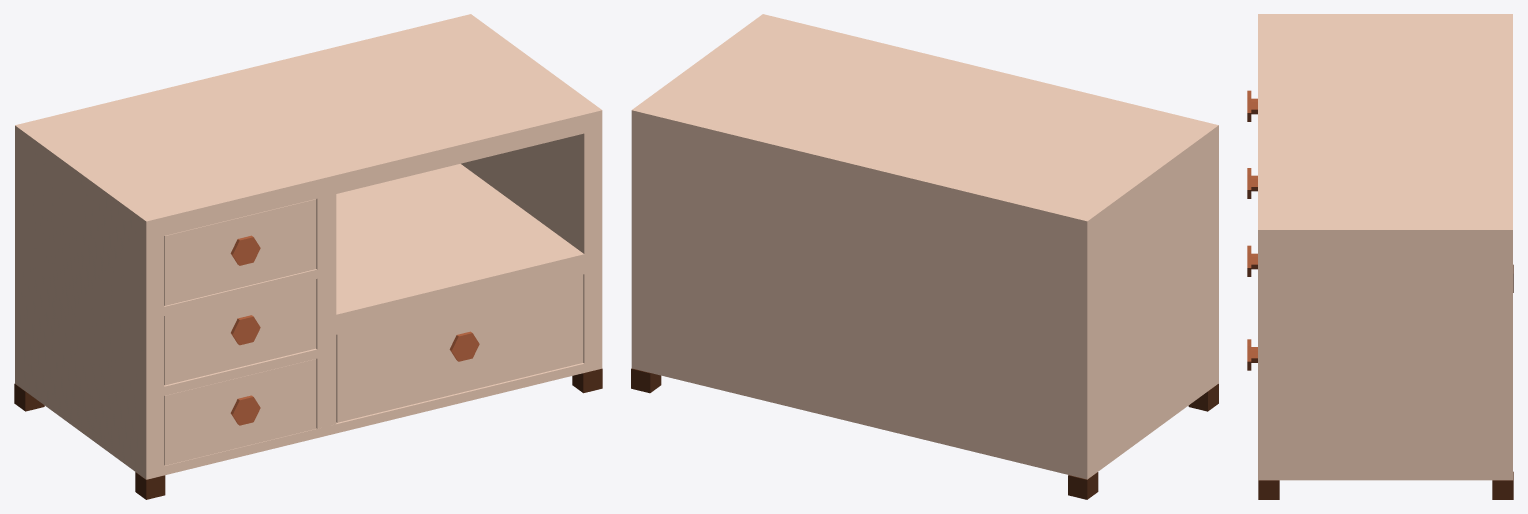
File: PW_cupboard01.fbx
3 views of the same model, side by side, from view 1: azimuth 30°, elevation 25°; view 2: azimuth 150°, elevation 25°; view 3: azimuth 270°, elevation 25° (orthographic). The views are drawn at different scales.
Parts seen in each view (by area): view 1: cupboard, drawer04, drawer01, drawer03, drawer02; view 2: cupboard; view 3: cupboard.
Part boxes in pixels (x1,y1,x2,y2): cupboard: [14, 14, 602, 499]; drawer04: [336, 274, 583, 422]; drawer01: [164, 199, 316, 305]; drawer03: [164, 359, 316, 465]; drawer02: [164, 279, 316, 385]; cupboard: [631, 14, 1218, 499]; cupboard: [1258, 14, 1513, 499].
Size of the model in its own units: 2.39 by 1.4 by 1.25.
